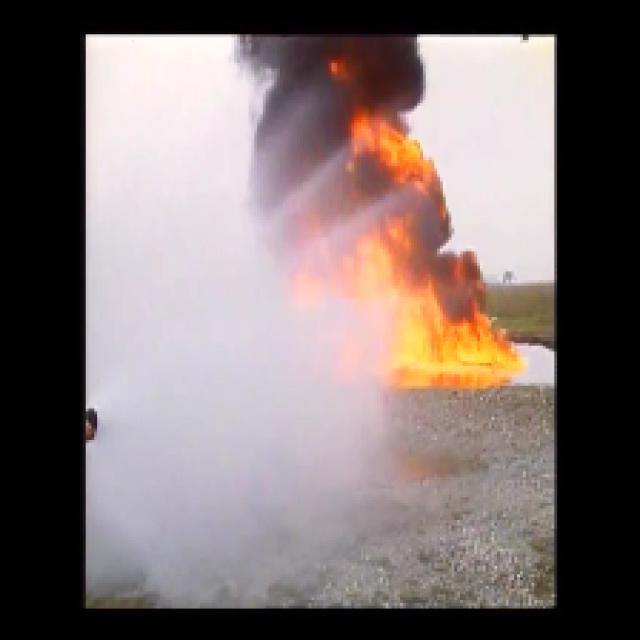Fire: (301, 248, 521, 392)
Smoke: (236, 38, 427, 109)
